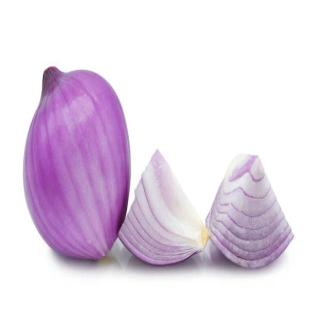Bawang Merah: (20, 62, 134, 265)
